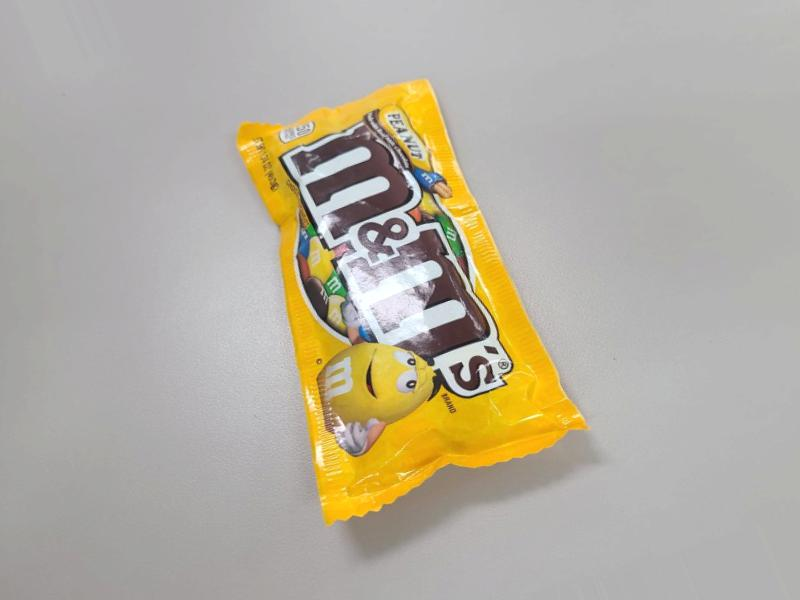m&m: (262, 87, 600, 526)
